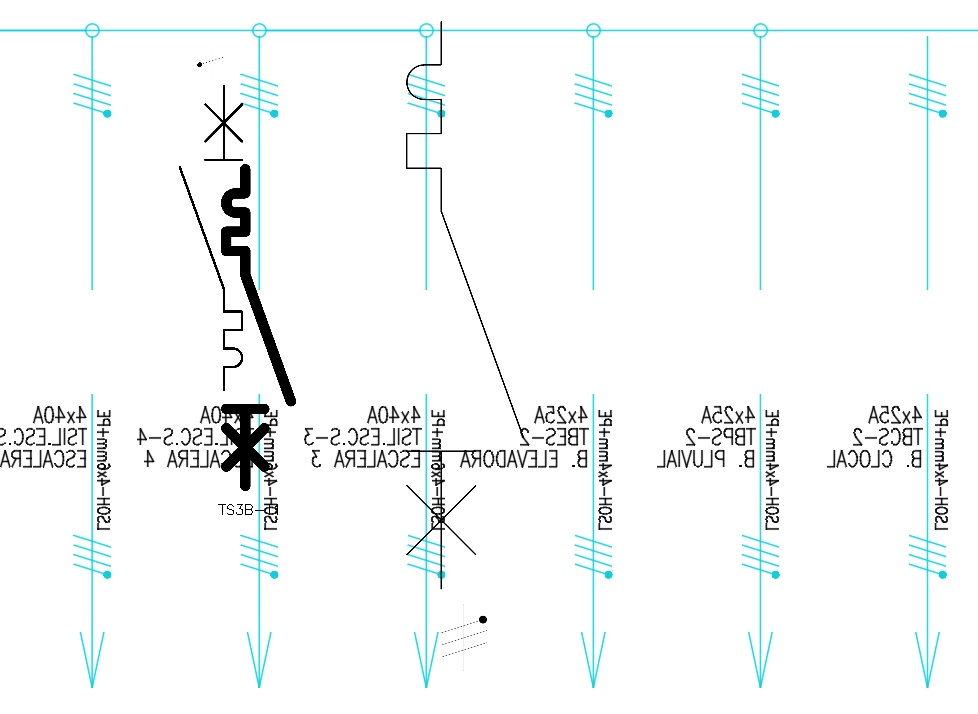interruptor_termomagnetico: (392, 7, 538, 603), (218, 161, 299, 494), (172, 78, 250, 398)
